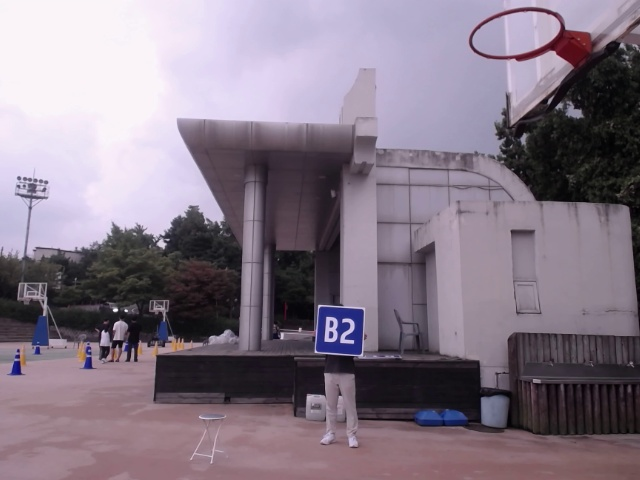delivery_b2: (318, 304, 365, 356)
